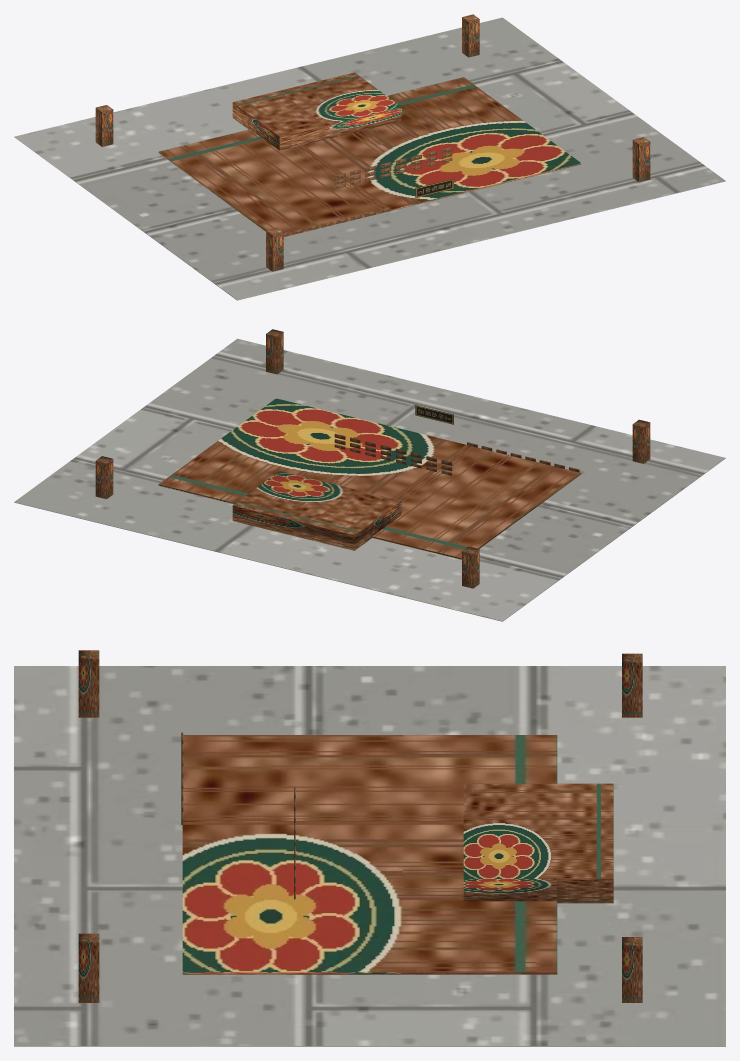
3 renders of one model, top to bottom at view 1: azimuth 30°, elevation 25°; view 2: azimuth 150°, elevation 25°; view 3: azimuth 270°, elevation 25°, orthographic. The views are drawn at different scales.
Visible parts, largest first — view 1: 11140_02_04565_037_01_L2__base, 11140_02_04565_037_02_L2__body, 11140_02_04565_037_06_L2__green, 11140_02_04565_037_05_L2__openings; view 2: 11140_02_04565_037_01_L2__base, 11140_02_04565_037_02_L2__body, 11140_02_04565_037_06_L2__green, 11140_02_04565_037_05_L2__openings; view 3: 11140_02_04565_037_01_L2__base, 11140_02_04565_037_02_L2__body, 11140_02_04565_037_06_L2__green.
Boxes of the visible parts, <box> form: 11140_02_04565_037_01_L2__base: <box>14,17,725,300</box>; 11140_02_04565_037_02_L2__body: <box>158,72,581,236</box>; 11140_02_04565_037_06_L2__green: <box>95,14,650,271</box>; 11140_02_04565_037_05_L2__openings: <box>283,147,452,236</box>; 11140_02_04565_037_01_L2__base: <box>14,338,725,621</box>; 11140_02_04565_037_02_L2__body: <box>158,398,581,559</box>; 11140_02_04565_037_06_L2__green: <box>95,329,650,588</box>; 11140_02_04565_037_05_L2__openings: <box>334,434,579,475</box>; 11140_02_04565_037_01_L2__base: <box>14,666,725,1046</box>; 11140_02_04565_037_02_L2__body: <box>182,735,613,974</box>; 11140_02_04565_037_06_L2__green: <box>78,650,642,1002</box>.
Bounding box in the file's own units: 96 × 7.2 × 76.
4 materials, 4 textured.
